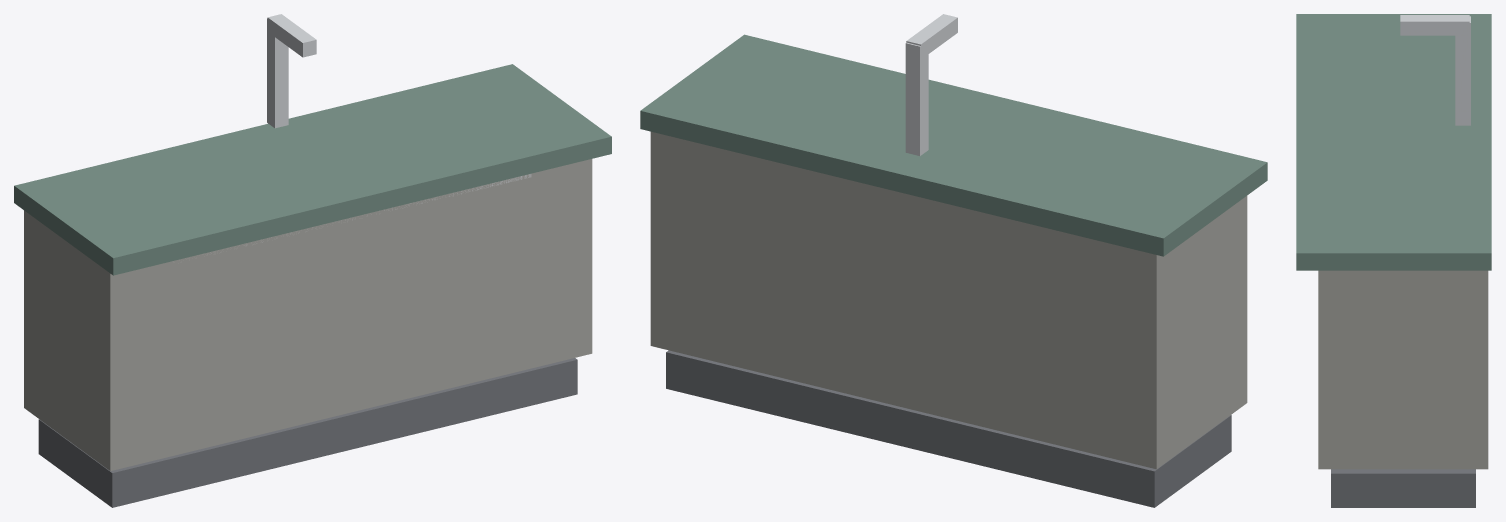
Rendered from mov_20aaaa906e.gltf.
The picture shows the model from 3 angles, left to right: view 1: azimuth 30°, elevation 25°; view 2: azimuth 150°, elevation 25°; view 3: azimuth 270°, elevation 25°; orthographic projection. The views are drawn at different scales.
Parts seen in each view (by area): view 1: mov_20aaaa906e; view 2: mov_20aaaa906e; view 3: mov_20aaaa906e.
Boxes of the visible parts, bbox=[...] form: mov_20aaaa906e: bbox=[14, 14, 611, 507]; mov_20aaaa906e: bbox=[640, 14, 1267, 507]; mov_20aaaa906e: bbox=[1296, 14, 1491, 507].
Bounding box in the file's own units: 1.8 × 1.33 × 0.62.
